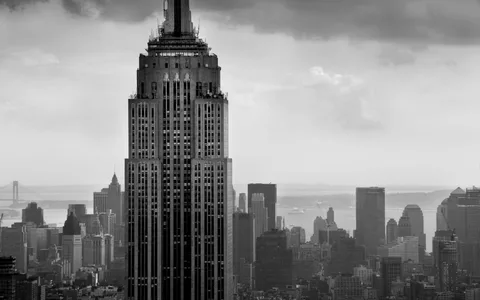high_rise_building: (120, 11, 237, 296)
